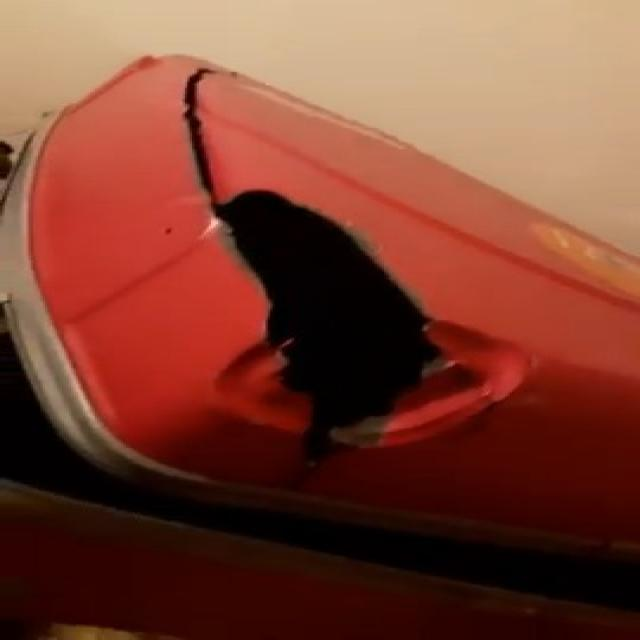Damage-bag: (184, 69, 533, 486), (4, 334, 107, 490)
